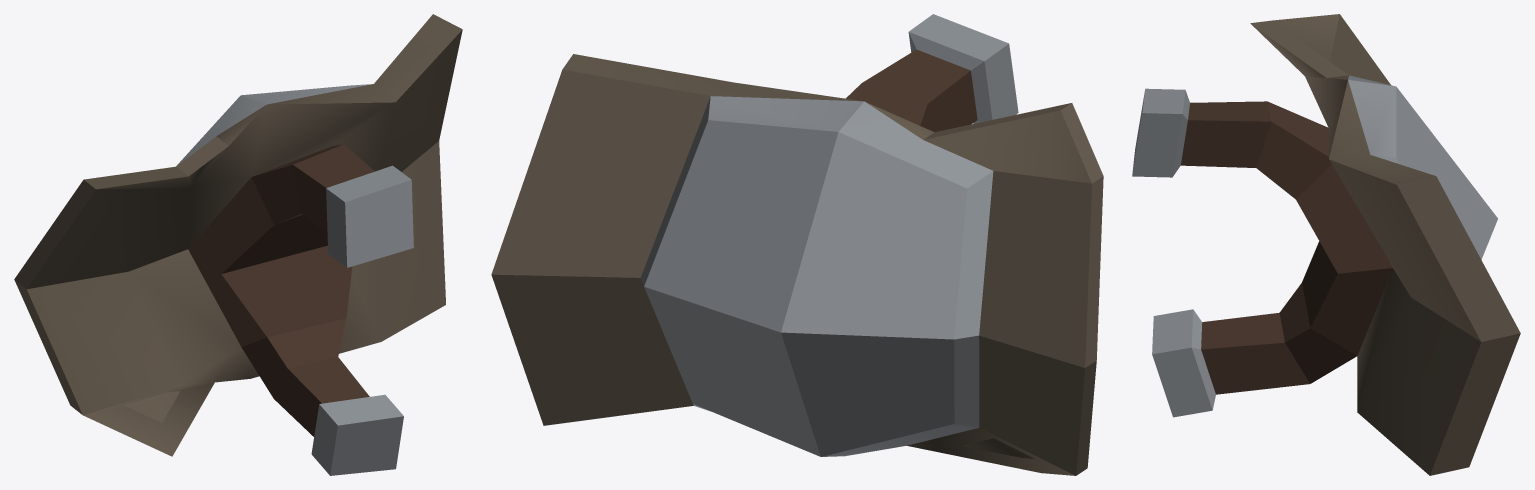
The model's file is Chr_ElbowAttachRight_01_Static.fbx.
3 renders of one model, left to right at view 1: azimuth 30°, elevation 25°; view 2: azimuth 150°, elevation 25°; view 3: azimuth 270°, elevation 25°, orthographic. The views are drawn at different scales.
Parts seen in each view (by area): view 1: Chr_ElbowAttachRight_01_Static; view 2: Chr_ElbowAttachRight_01_Static; view 3: Chr_ElbowAttachRight_01_Static.
Part boxes in pixels (bbox=[...]): Chr_ElbowAttachRight_01_Static: bbox=[14, 14, 462, 475]; Chr_ElbowAttachRight_01_Static: bbox=[491, 14, 1103, 475]; Chr_ElbowAttachRight_01_Static: bbox=[1132, 14, 1520, 475].
Bounding box in the file's own units: 0.1839 × 0.1228 × 0.1335.
